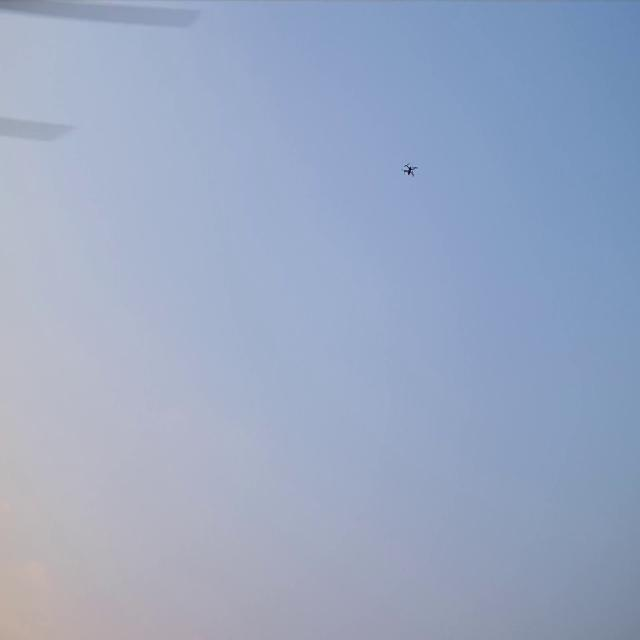UAV: (404, 165, 416, 175)
